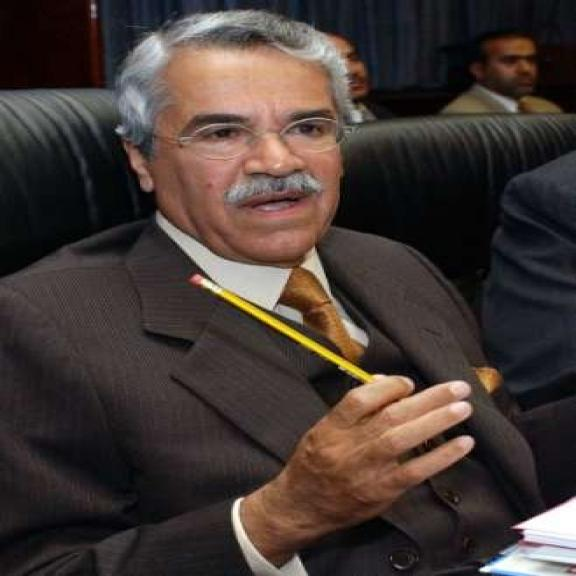face: (121, 54, 352, 268), (464, 38, 540, 102)
